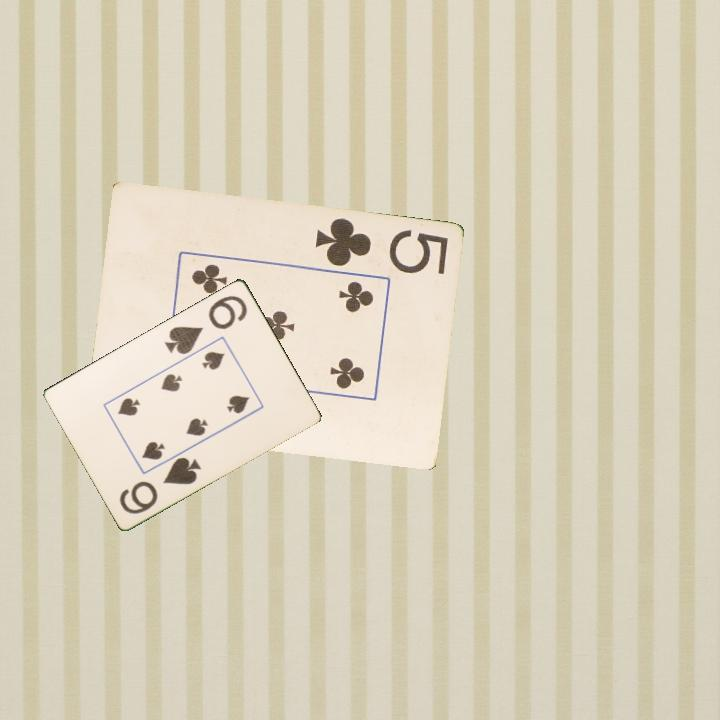5c: (311, 214, 450, 278)
6s: (161, 291, 250, 357), (116, 453, 205, 517)
